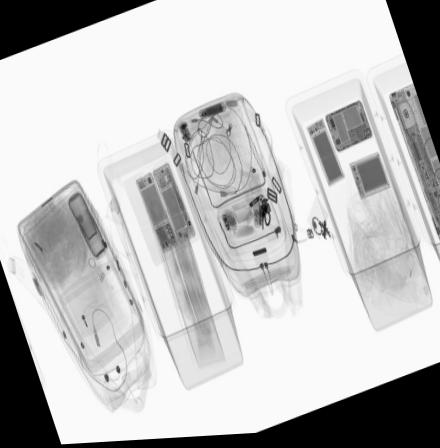Powerbank: (305, 118, 347, 193), (347, 155, 392, 207)
